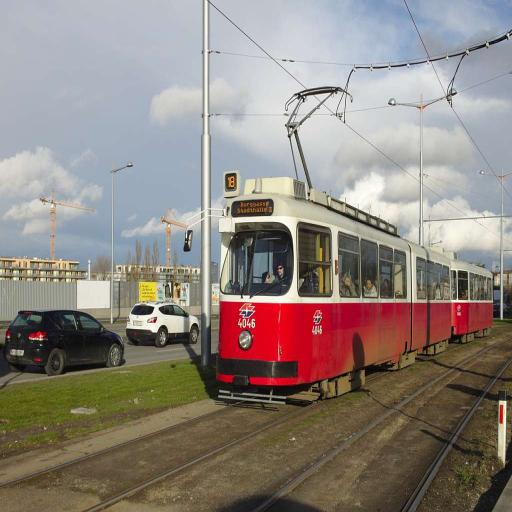E2-Tram: (218, 162, 496, 418)
